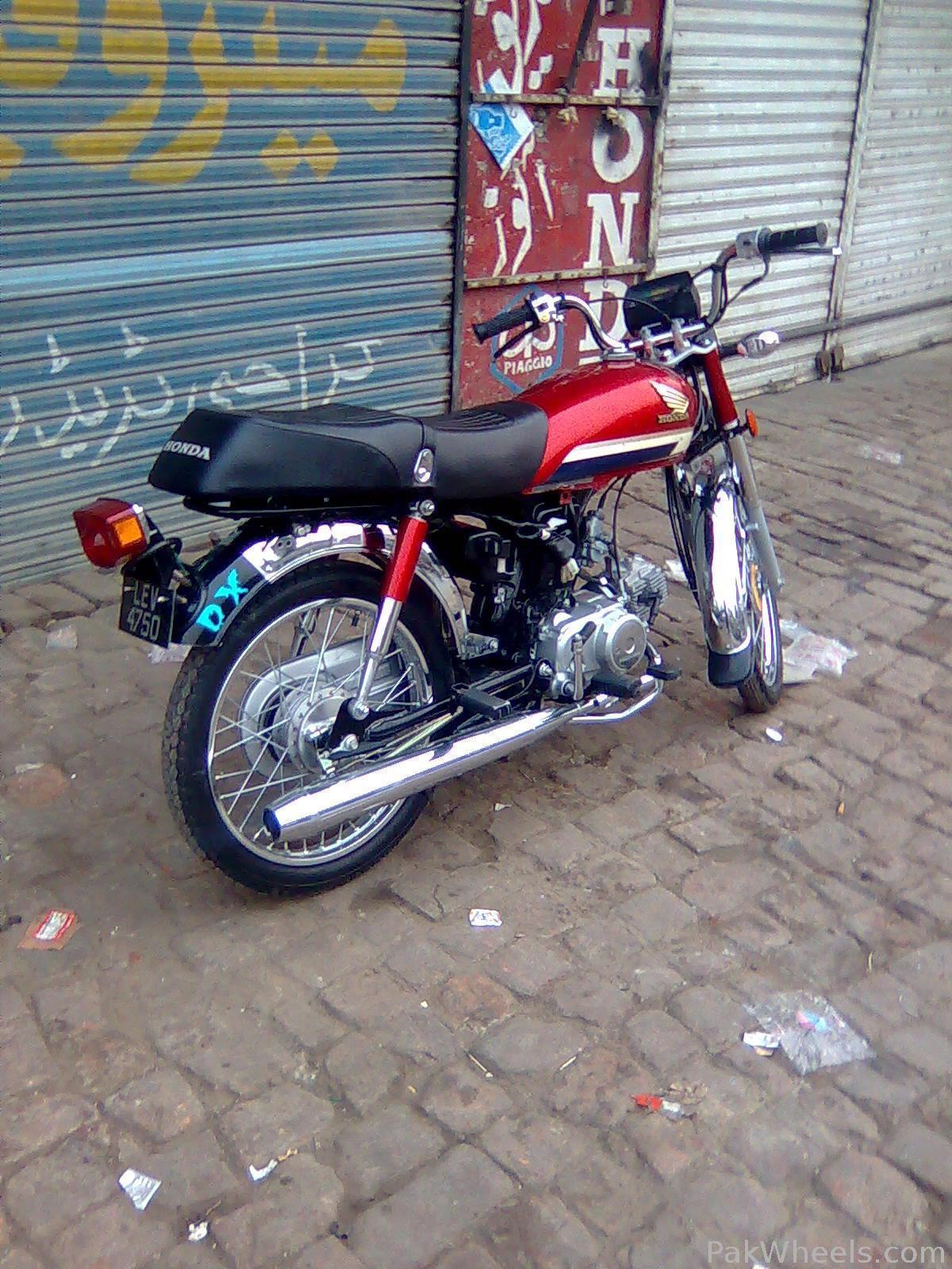motorcycle: (54, 202, 873, 906)
